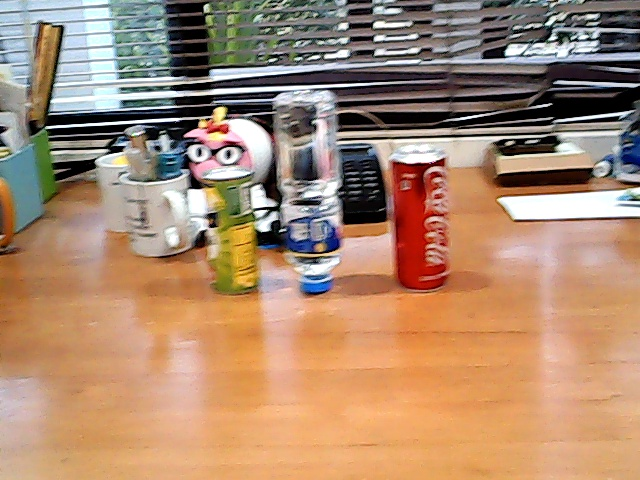Cola: (371, 133, 467, 307)
Pine Juice: (182, 158, 268, 304)
Summit Water: (265, 78, 366, 302)
